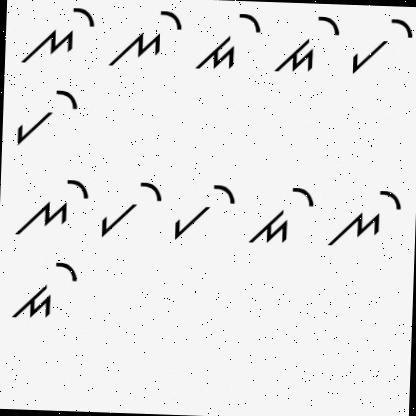day: (8, 259, 85, 336), (189, 8, 266, 80), (246, 176, 316, 248), (274, 10, 342, 83)
nay: (322, 182, 410, 252), (108, 0, 186, 74), (15, 172, 92, 246), (17, 5, 97, 67)
pay: (12, 81, 81, 156), (98, 174, 165, 246), (345, 12, 415, 80), (169, 182, 240, 249)
